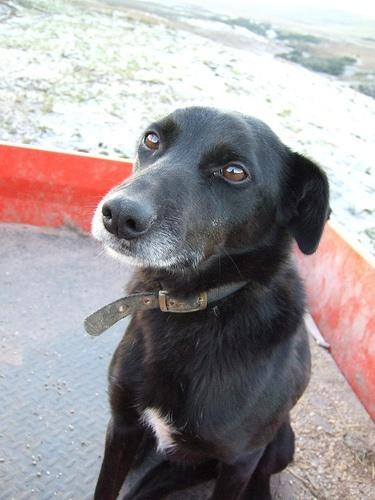dog: (91, 104, 331, 500)
